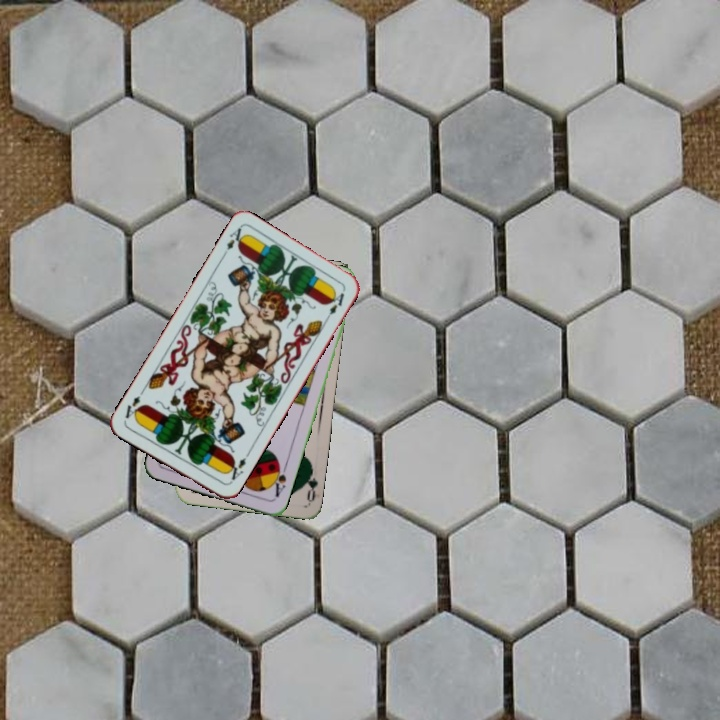EA: (218, 223, 248, 261), (222, 449, 252, 486)
GO: (300, 463, 320, 504)
SA: (267, 459, 289, 500)
